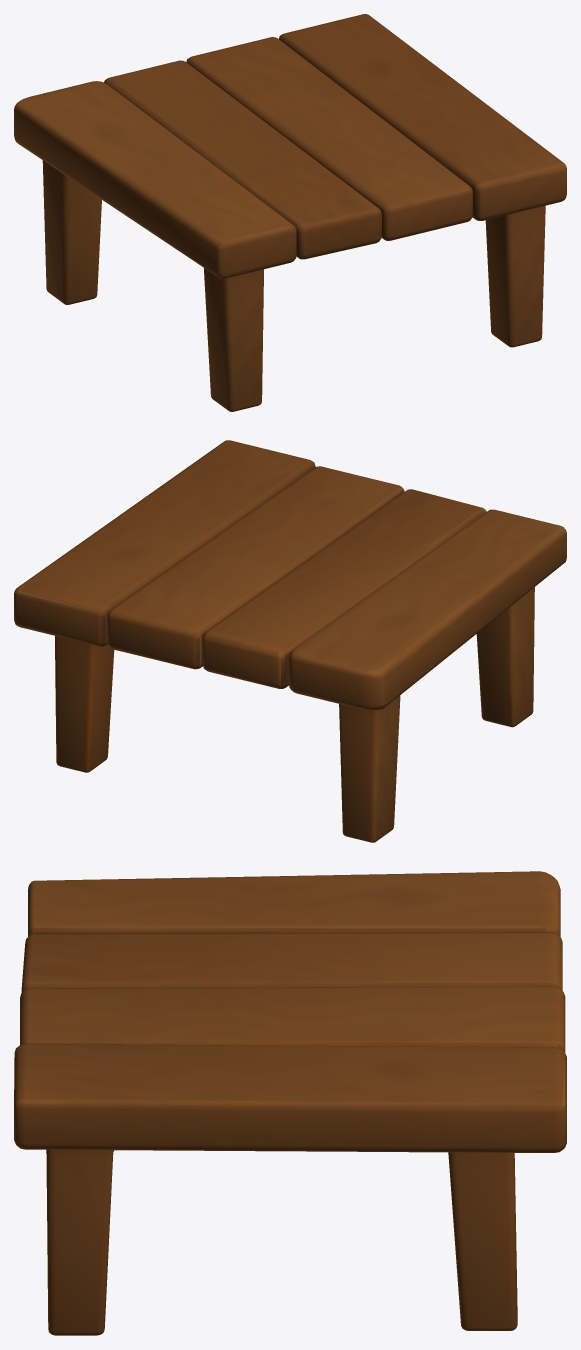
File: SmallTable.glb
3 renders of one model, top to bottom at view 1: azimuth 30°, elevation 25°; view 2: azimuth 150°, elevation 25°; view 3: azimuth 270°, elevation 25°, orthographic. The views are drawn at different scales.
Visible parts, largest first — view 1: geometry_0; view 2: geometry_0; view 3: geometry_0.
Boxes of the visible parts, x1,y1,x2,y2 form: geometry_0: [14, 14, 566, 411]; geometry_0: [14, 440, 566, 842]; geometry_0: [14, 871, 566, 1335].
Size of the model in its own units: 0.9995 by 0.4897 by 0.9937.
1 material, 1 textured.
